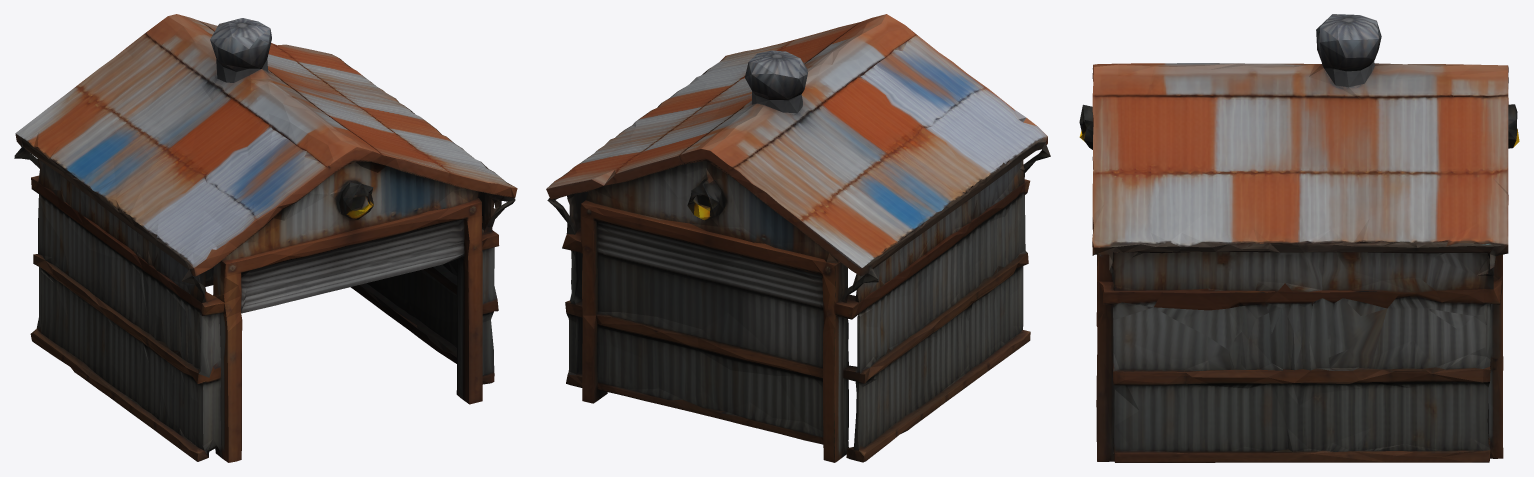
Rendered from chop_shop.glb.
3 renders of one model, left to right at view 1: azimuth 30°, elevation 25°; view 2: azimuth 150°, elevation 25°; view 3: azimuth 270°, elevation 25°, orthographic. The views are drawn at different scales.
Visible parts, largest first — view 1: geometry_0; view 2: geometry_0; view 3: geometry_0.
Boxes of the visible parts, x1=… form: geometry_0: x1=14, y1=14, x2=517, y2=462; geometry_0: x1=546, y1=14, x2=1050, y2=462; geometry_0: x1=1079, y1=14, x2=1519, y2=462.
Bounding box in the file's own units: 0.9894 × 0.9224 × 0.9919.
Materials: 1 (1 with a texture image).
